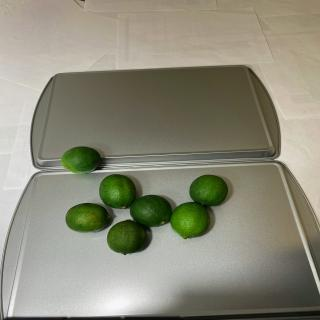Lemon: (170, 202, 211, 239), (106, 219, 147, 255), (130, 195, 172, 228), (65, 203, 110, 233), (99, 174, 136, 209), (189, 174, 228, 206), (61, 146, 101, 174)
